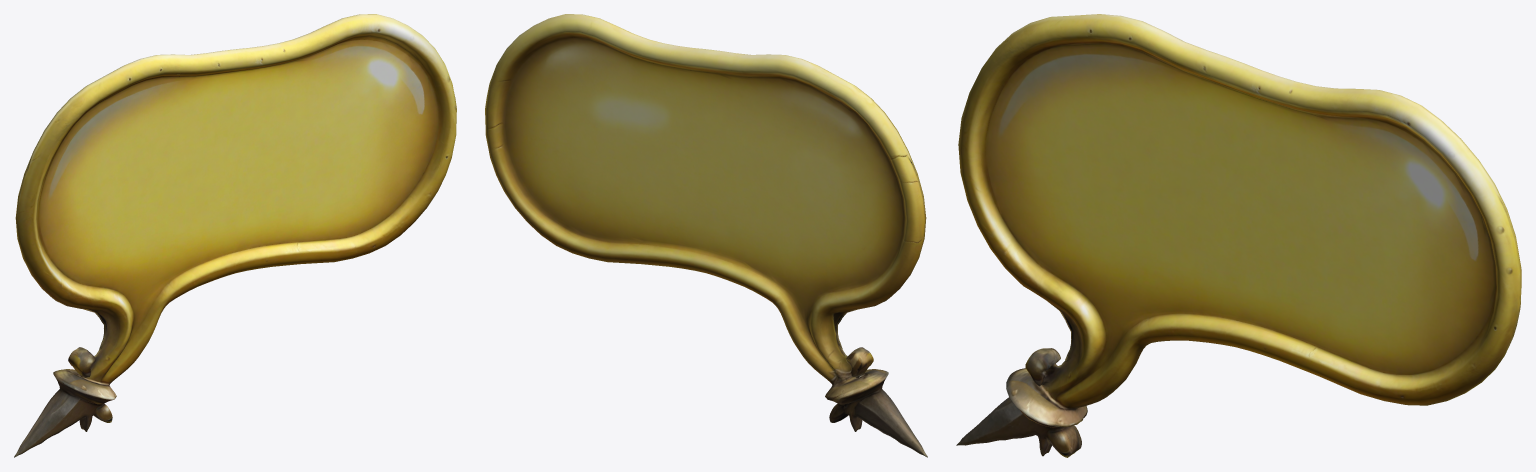
Rendered from quest_bubble.fbx.
The picture shows the model from 3 angles, left to right: view 1: azimuth 30°, elevation 25°; view 2: azimuth 150°, elevation 25°; view 3: azimuth 330°, elevation 25°; orthographic projection. The views are drawn at different scales.
Visible parts, largest first — view 1: Mesh1_Mesh1.051; view 2: Mesh1_Mesh1.051; view 3: Mesh1_Mesh1.051.
Boxes of the visible parts, x1,y1,x2,y2 form: Mesh1_Mesh1.051: (14, 14, 456, 457); Mesh1_Mesh1.051: (485, 14, 927, 457); Mesh1_Mesh1.051: (956, 14, 1521, 457).
Size of the model in its own units: 200 by 159 by 27.27.
1 material, 1 textured.
